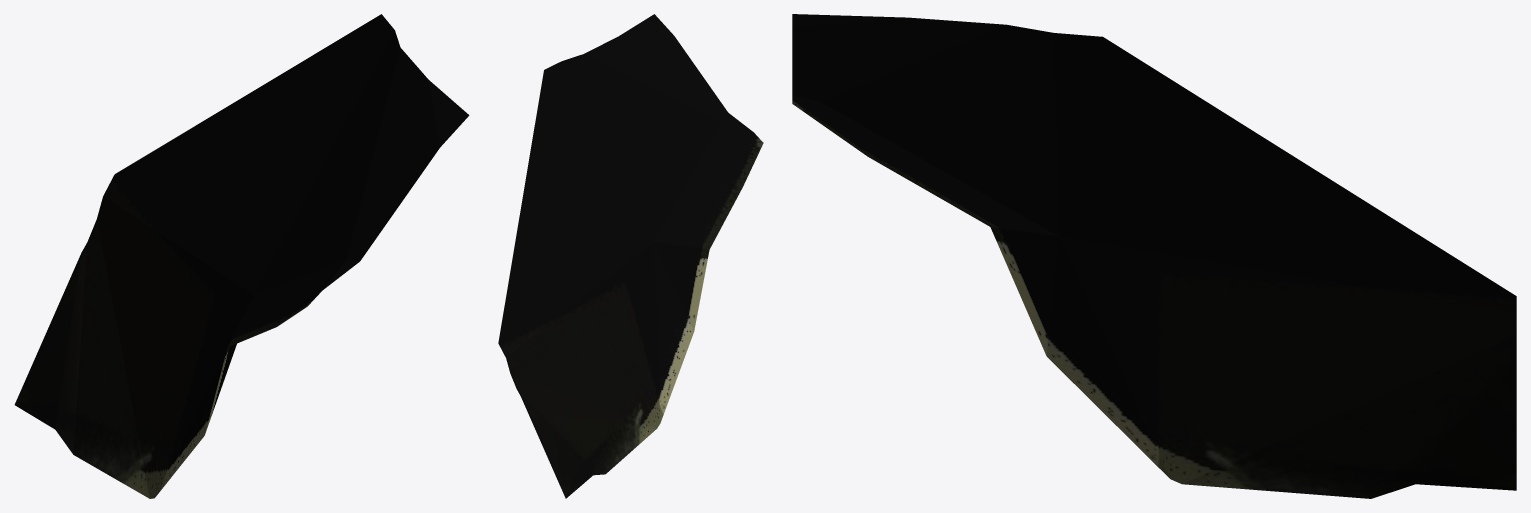
The picture shows the model from 3 angles, left to right: view 1: azimuth 30°, elevation 25°; view 2: azimuth 150°, elevation 25°; view 3: azimuth 270°, elevation 25°; orthographic projection. The views are drawn at different scales.
Bounding box in the file's own units: 4.64 × 10.47 × 11.8.
Materials: 2 (2 with a texture image).
